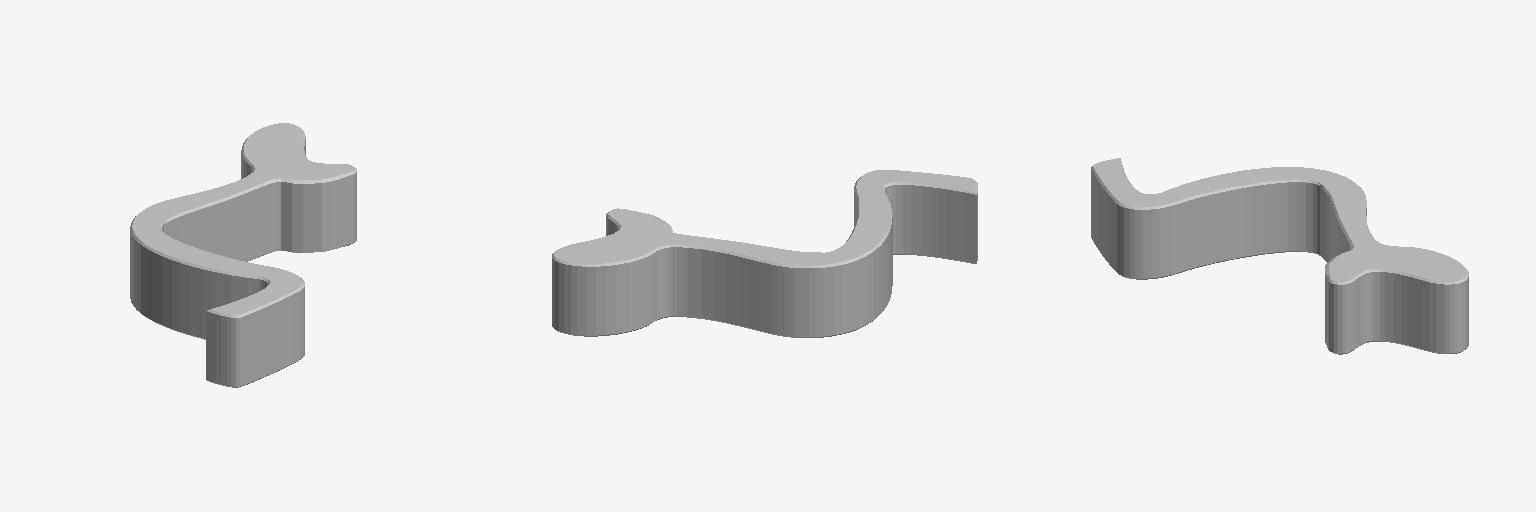
The model's file is node gate.obj.
3 renders of one model, left to right at view 1: azimuth 30°, elevation 25°; view 2: azimuth 150°, elevation 25°; view 3: azimuth 270°, elevation 25°, orthographic.
Parts seen in each view (by area): view 1: nodeGate nodeGate; view 2: nodeGate nodeGate; view 3: nodeGate nodeGate.
Boxes of the visible parts, x1,y1,x2,y2 form: nodeGate nodeGate: [130, 123, 356, 387]; nodeGate nodeGate: [552, 170, 977, 337]; nodeGate nodeGate: [1091, 158, 1468, 354].
Bounding box in the file's own units: 42.51 × 11.4 × 53.72.